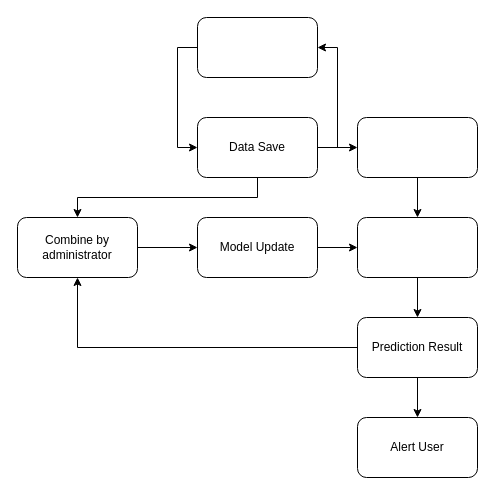
Some shapes in this 495 by 495 pixel diagram are drawn without their labels. The centre of each missing label's shape, as x and y in pixels:
AI Model: the point at 417,247
Data Pre-process: the point at 417,147
Traffic Collect: the point at 257,47
